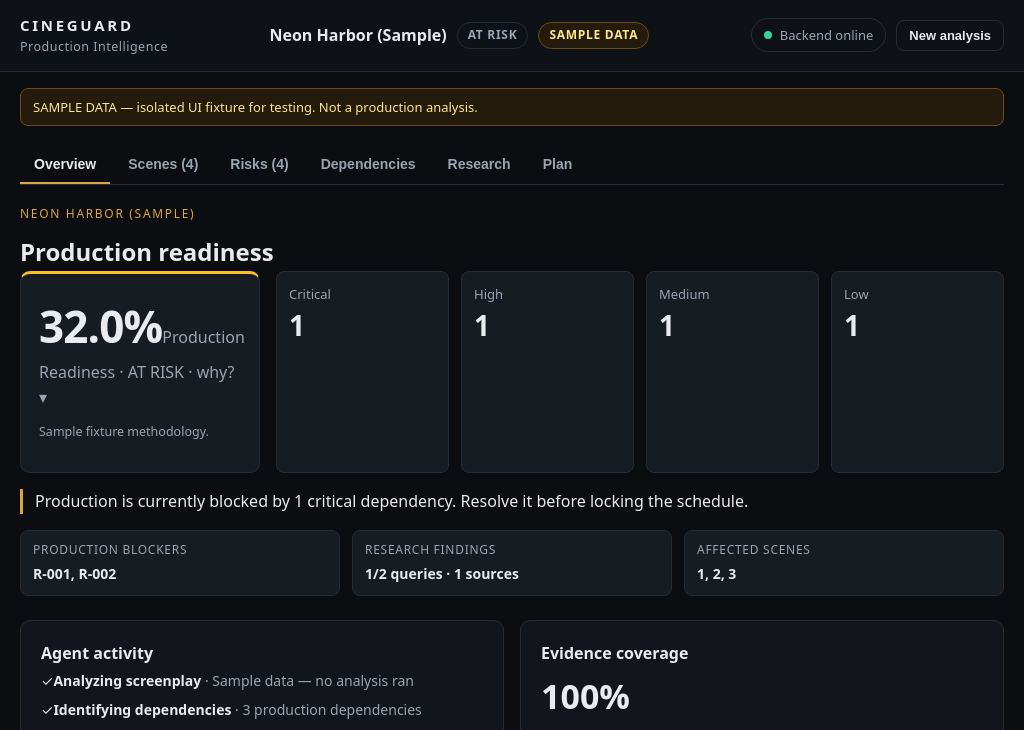
Test: Command Center › surfaces plan API failures without fake success
Click the tab "Plan". click: (558, 165)
box: [529,146,586,184]
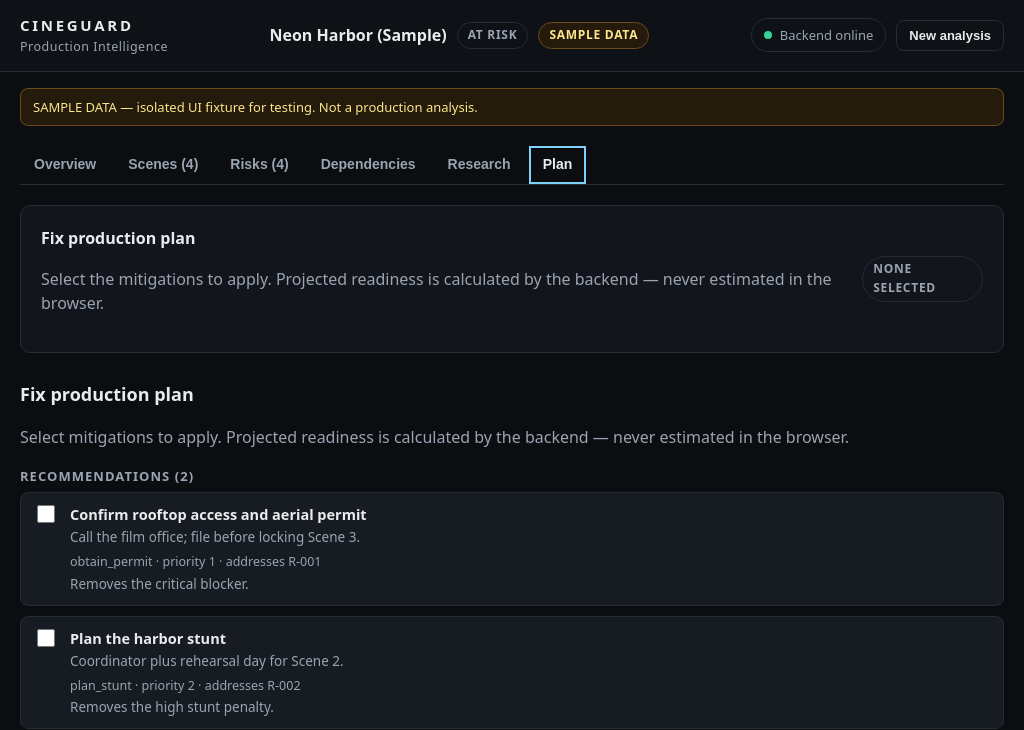
Click the checkbox labelled "rooftop access". click: (46, 514)
box: [37,505,55,523]
(page scrolled)
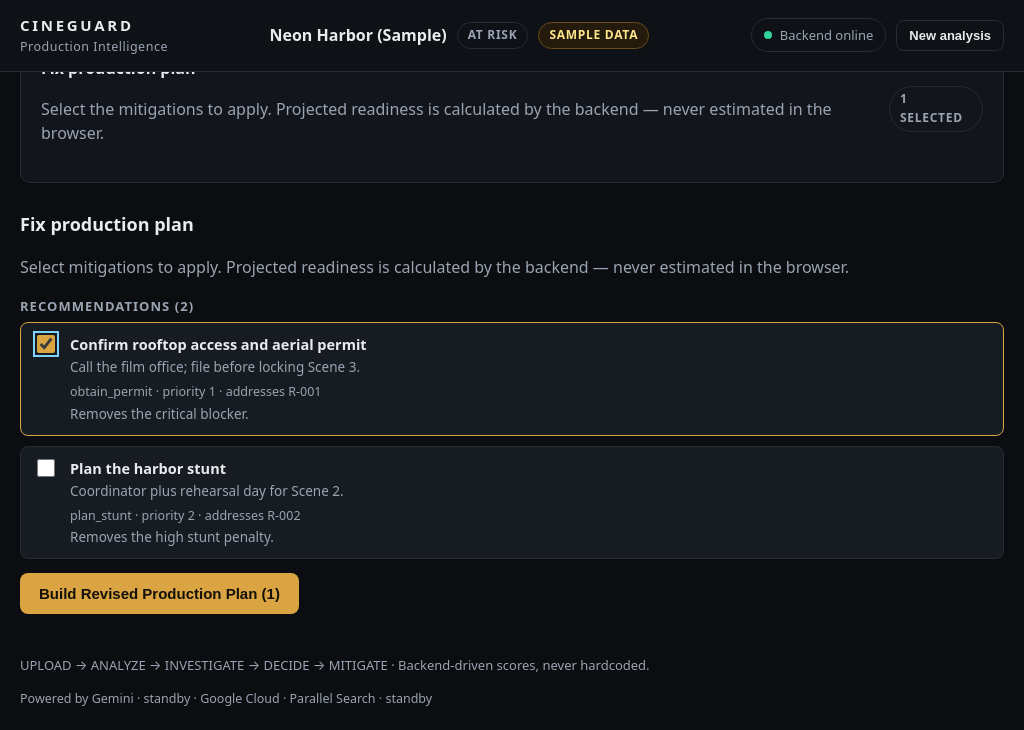
Click the button "Build Revised Production Plan (1)". click: (159, 594)
box: [20,573,299,614]
(page scrolled)
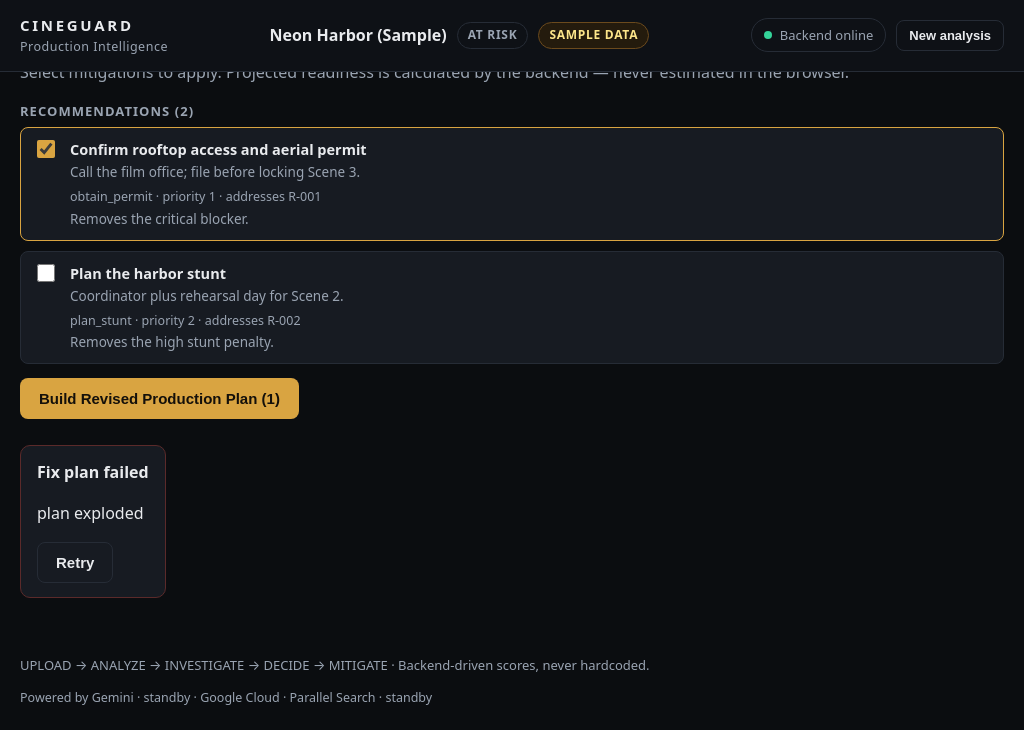
Now the message "Fix plan failed plan exploded Retry" is shown, box [20,445,166,598]
